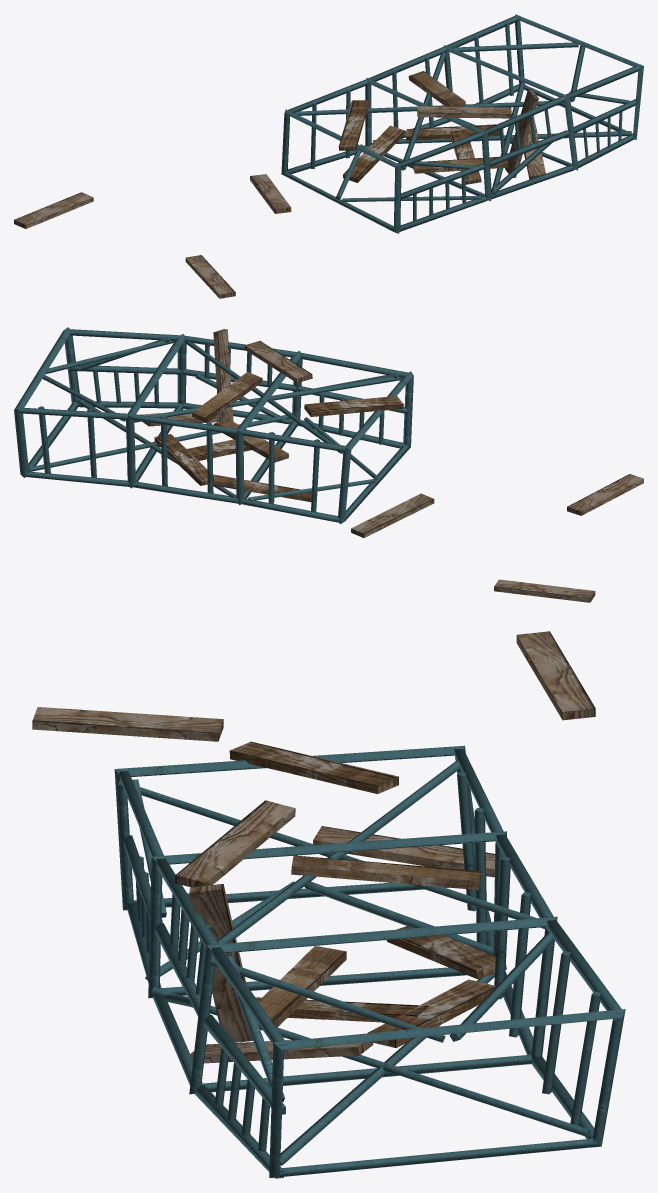
Rendered from Shelves_big03_broken.glb.
3 views of the same model, one above another, from view 1: azimuth 30°, elevation 25°; view 2: azimuth 150°, elevation 25°; view 3: azimuth 270°, elevation 25° (orthographic). The views are drawn at different scales.
Visible parts, largest first — view 1: Shelves_big03_broken; view 2: Shelves_big03_broken; view 3: Shelves_big03_broken.
Part boxes in pixels (left/top/right/bottom): Shelves_big03_broken: left=14, top=14, right=643, bottom=298; Shelves_big03_broken: left=14, top=327, right=643, bottom=602; Shelves_big03_broken: left=32, top=631, right=625, bottom=1178.
Bounding box in the file's own units: 9.14 × 1.43 × 4.17.
Materials: 1 (1 with a texture image).
